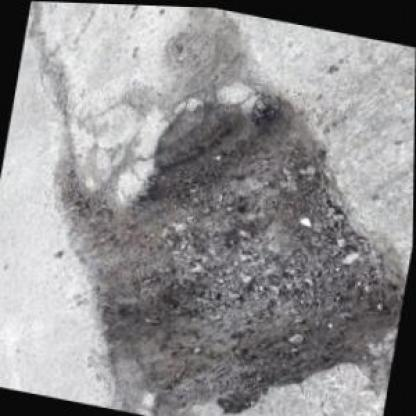pothole: (20, 50, 414, 415)
